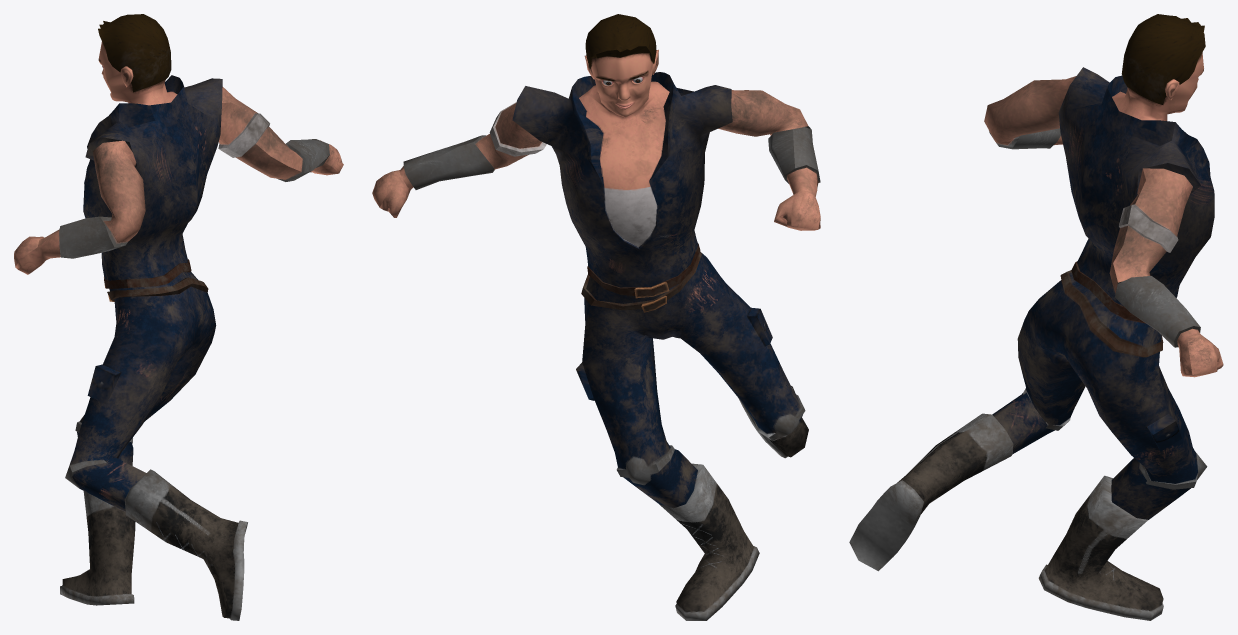
File: Anim_ataque_f2_jugador.0024.obj
3 renders of one model, left to right at view 1: azimuth 30°, elevation 25°; view 2: azimuth 150°, elevation 25°; view 3: azimuth 270°, elevation 25°, orthographic. The views are drawn at different scales.
Visible parts, largest first — view 1: polySurface1; view 2: polySurface1; view 3: polySurface1.
Boxes of the visible parts, x1,y1,x2,y2 form: polySurface1: (14,14,343,620); polySurface1: (372,14,820,620); polySurface1: (849,14,1223,620).
Bounding box in the file's own units: 6.36 × 9.08 × 4.9.
